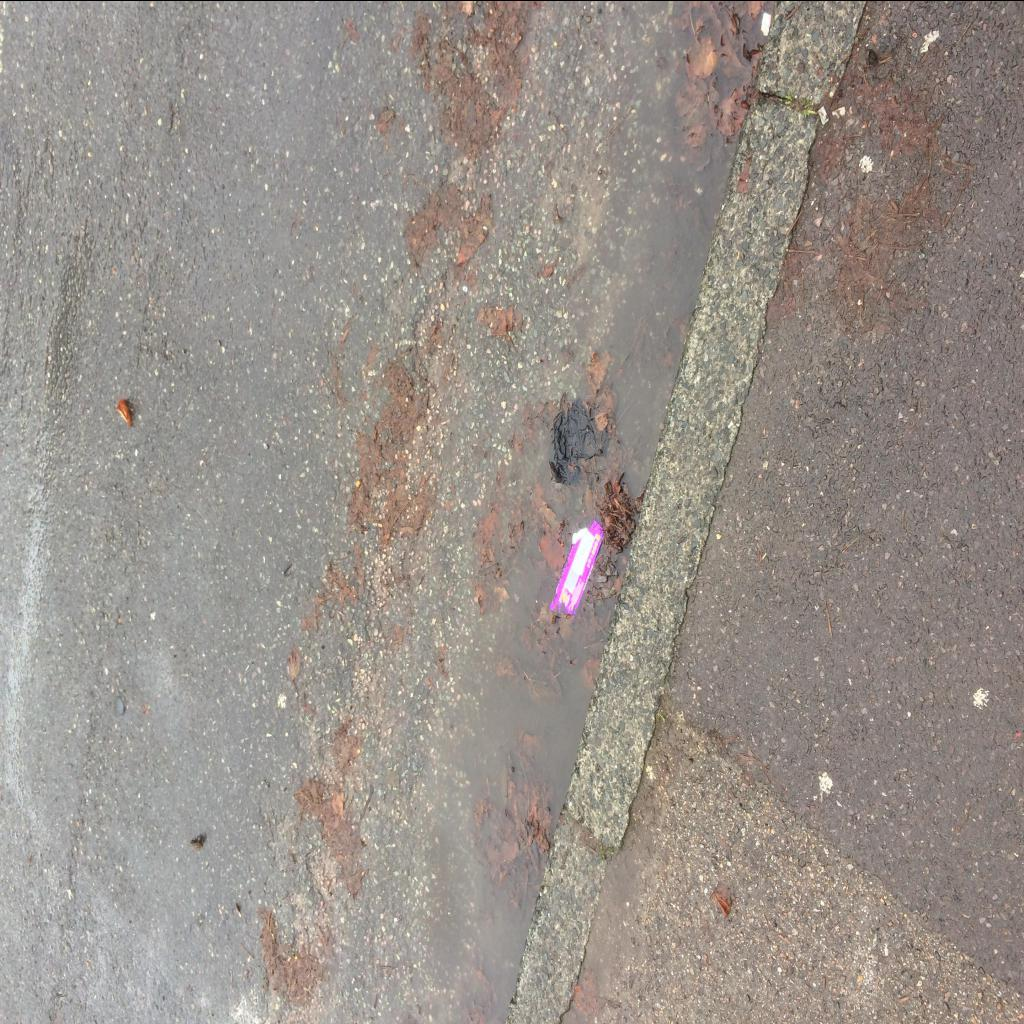Other plastic: (550, 520, 604, 624)
